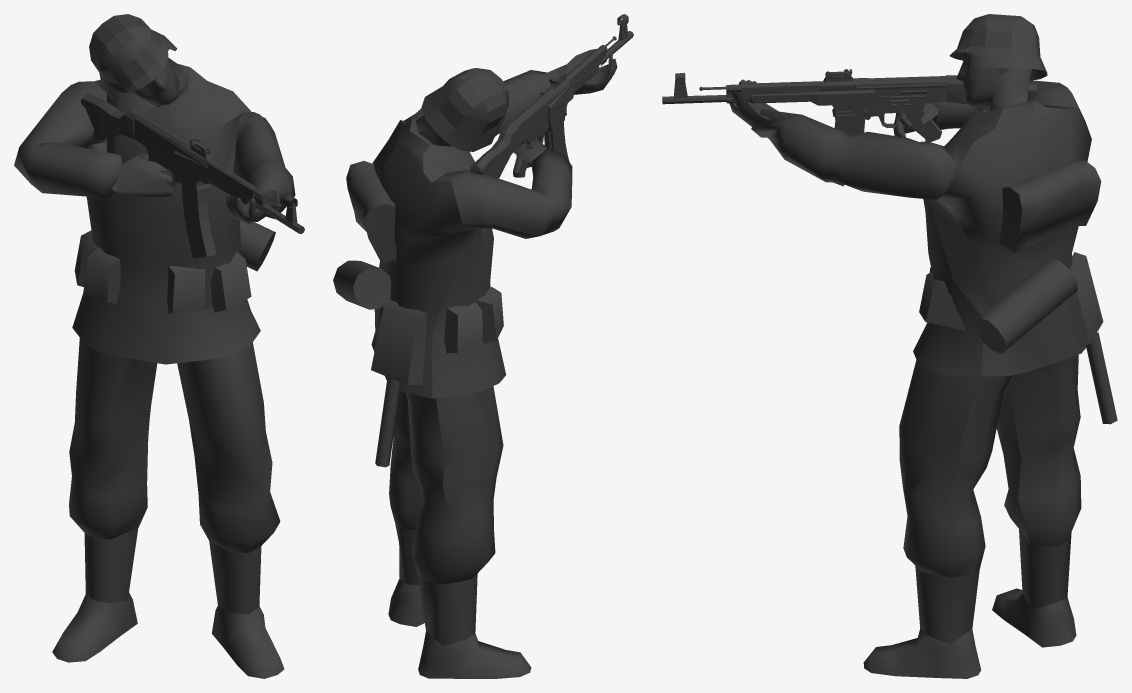
The model's file is de_stg_piedi.glb.
The picture shows the model from 3 angles, left to right: view 1: azimuth 30°, elevation 25°; view 2: azimuth 150°, elevation 25°; view 3: azimuth 270°, elevation 25°; orthographic projection. The views are drawn at different scales.
Parts seen in each view (by area): view 1: german_03.000_german_03.002_18; view 2: german_03.000_german_03.002_18; view 3: german_03.000_german_03.002_18.
Part boxes in pixels (x1,y1,x2,y2): german_03.000_german_03.002_18: (14,14,304,678); german_03.000_german_03.002_18: (333,14,633,678); german_03.000_german_03.002_18: (662,14,1117,678).
Bounding box in the file's own units: 0.2102 × 0.5 × 0.3352.
1 material, 1 textured.
